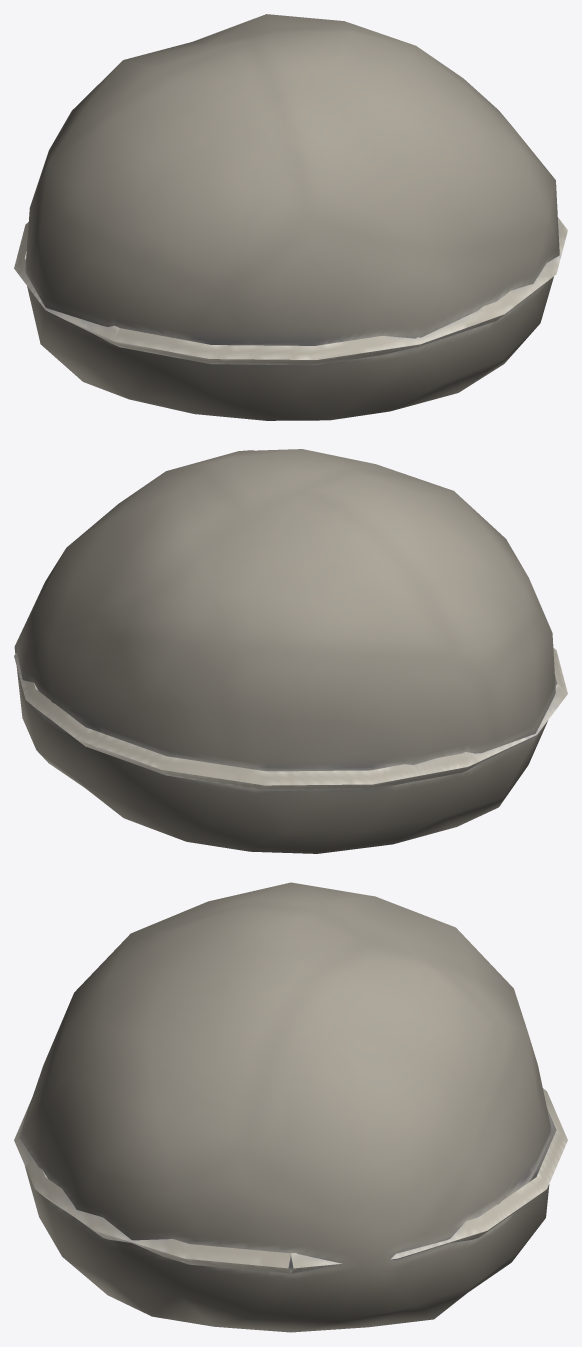
Rendered from geode.glb.
3 views of the same model, one above another, from view 1: azimuth 30°, elevation 25°; view 2: azimuth 150°, elevation 25°; view 3: azimuth 270°, elevation 25° (orthographic). The views are drawn at different scales.
Parts seen in each view (by area): view 1: SM_Geode; view 2: SM_Geode; view 3: SM_Geode.
Part boxes in pixels (x1,y1,x2,y2): SM_Geode: [14, 14, 567, 420]; SM_Geode: [14, 449, 567, 853]; SM_Geode: [14, 882, 567, 1332].
Size of the model in its own units: 0.3199 by 0.1825 by 0.292.
Materials: 1 (1 with a texture image).
